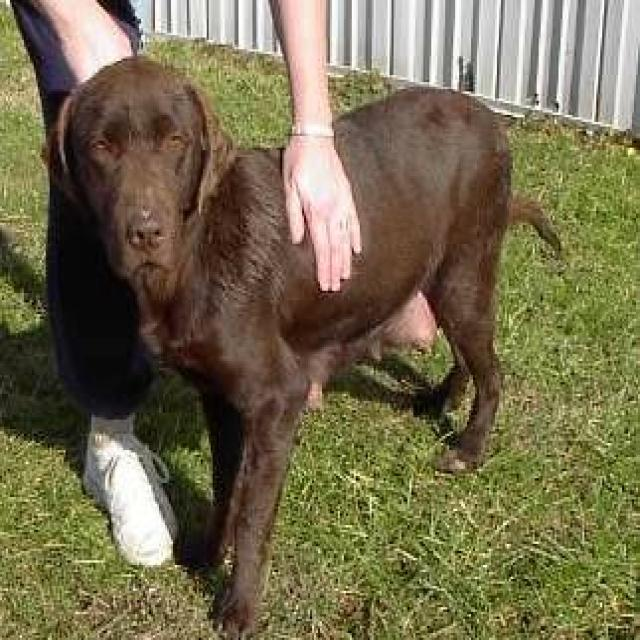dog: (45, 52, 562, 638)
